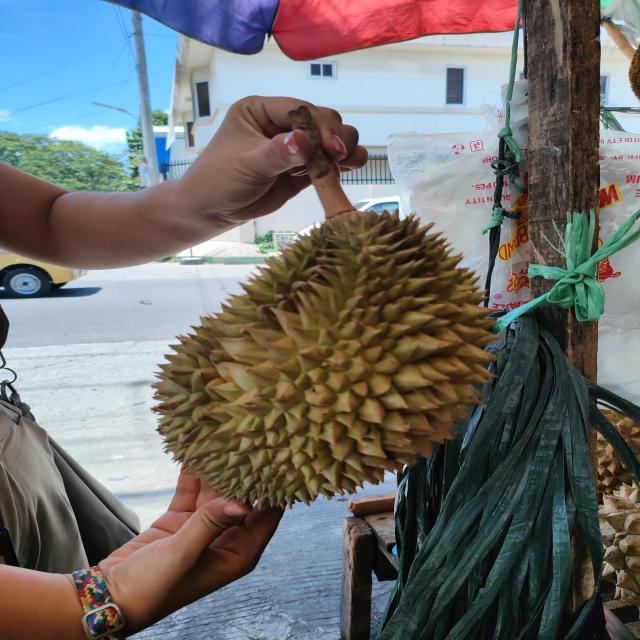mature: (153, 209, 494, 505)
